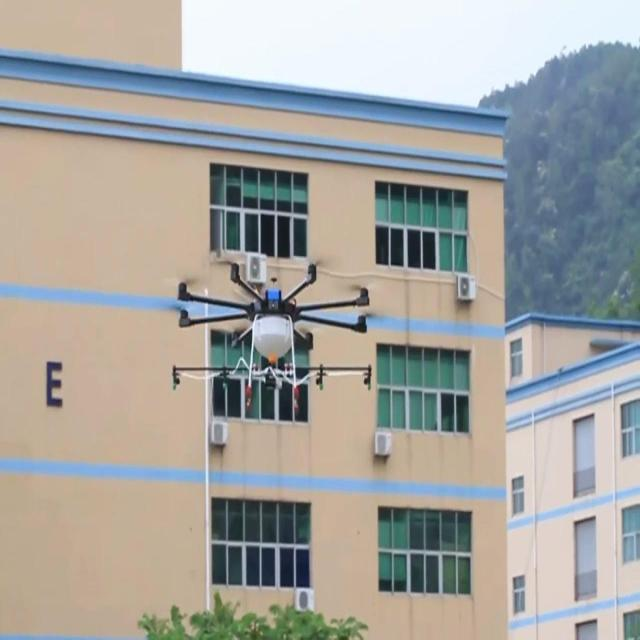drone: (170, 256, 373, 396)
